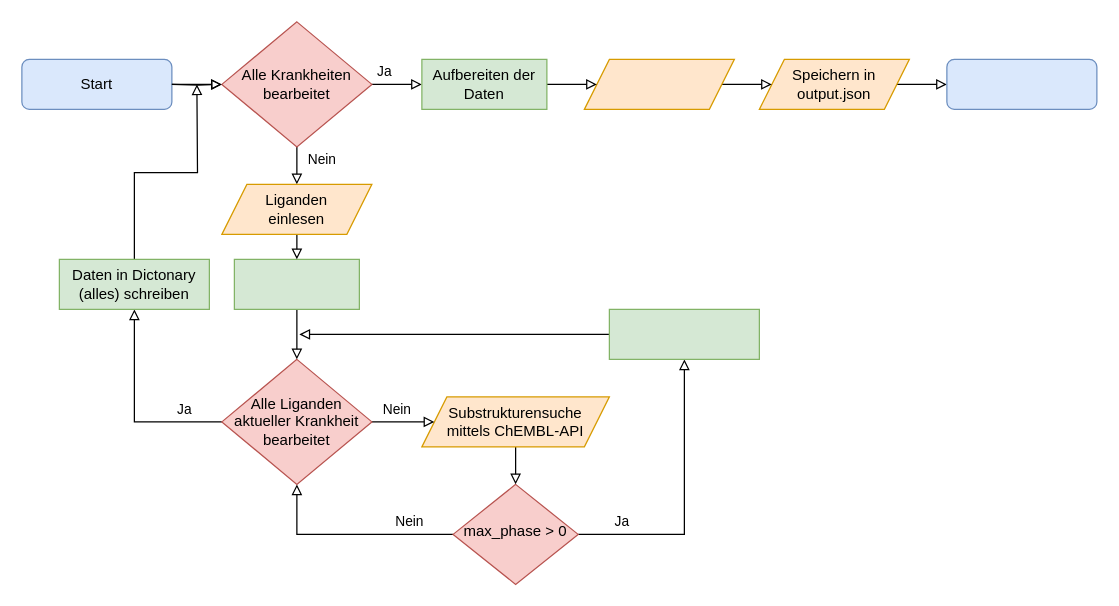
This 1119x606 diagram has some shape labels left out. Each missing label, with the centre of its shape:
"Daten in Dictonary (Krankheit) schreiben" goes at (x=683, y=333).
"Datenausgabe in Konsole" goes at (x=658, y=83).
"Stopp" goes at (x=1021, y=83).
"Verzeichnis erstellen" goes at (x=296, y=283).
